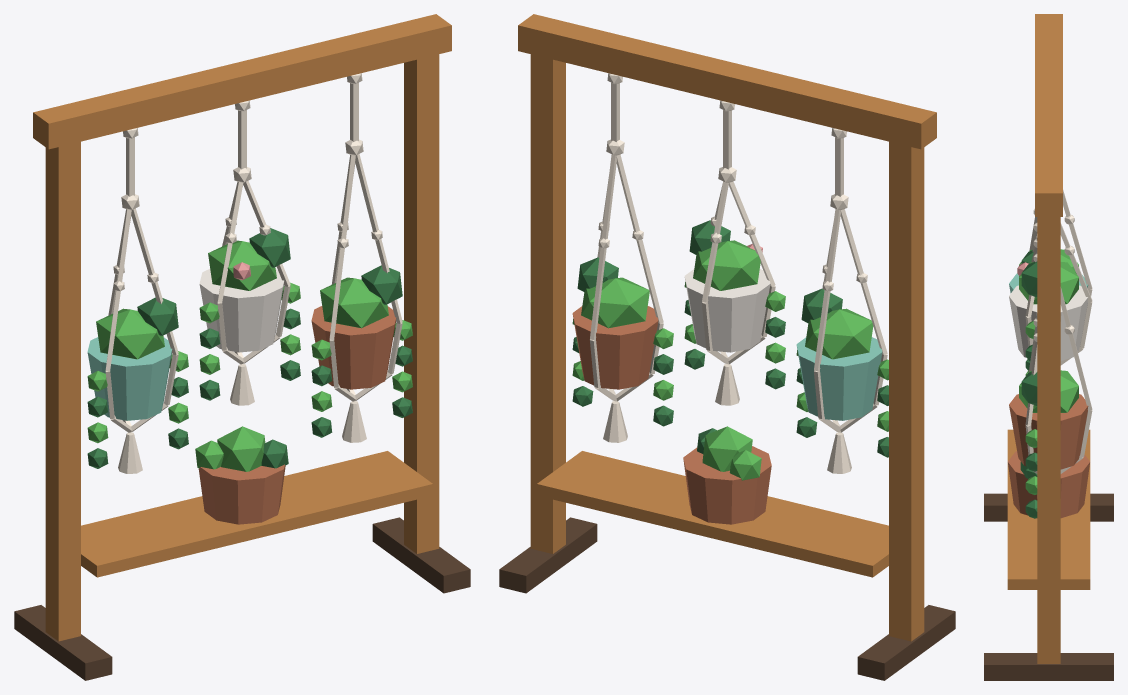
Rendered from CatCafe_Decor_HangingPlants.glb.
3 views of the same model, side by side, from view 1: azimuth 30°, elevation 25°; view 2: azimuth 150°, elevation 25°; view 3: azimuth 270°, elevation 25° (orthographic). The views are drawn at different scales.
Parts seen in each view (by area): view 1: CatCafe_Decor_HangingPlants; view 2: CatCafe_Decor_HangingPlants; view 3: CatCafe_Decor_HangingPlants.
Part boxes in pixels (x1,y1,x2,y2): CatCafe_Decor_HangingPlants: (14,14,470,680); CatCafe_Decor_HangingPlants: (499,14,955,680); CatCafe_Decor_HangingPlants: (984,14,1113,680).
Bounding box in the file's own units: 3.6 × 4.6 × 1.1.
Materials: 1 (1 with a texture image).
